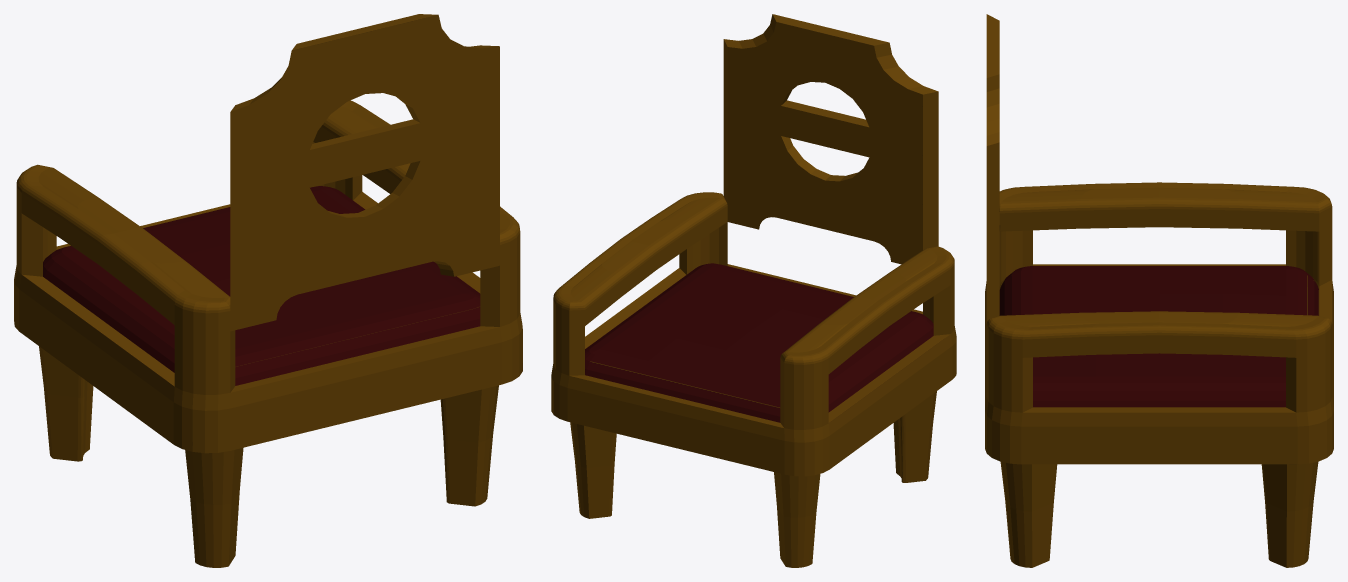
File: Chair.fbx
3 views of the same model, side by side, from view 1: azimuth 30°, elevation 25°; view 2: azimuth 150°, elevation 25°; view 3: azimuth 270°, elevation 25° (orthographic). The views are drawn at different scales.
Parts seen in each view (by area): view 1: Cube; view 2: Cube; view 3: Cube.
Part boxes in pixels (x1=…): Cube: x1=14, y1=14, x2=522, y2=567; Cube: x1=551, y1=14, x2=956, y2=567; Cube: x1=985, y1=14, x2=1333, y2=567.
Bounding box in the file's own units: 220 × 314 × 216.
